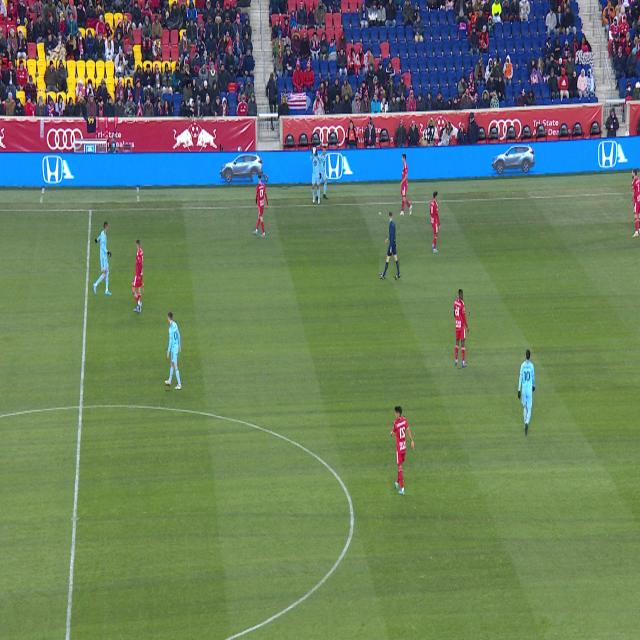player: (391, 406, 414, 495), (518, 349, 535, 436), (93, 222, 112, 295), (165, 313, 182, 390), (380, 213, 400, 278), (454, 290, 469, 369), (454, 290, 469, 368), (254, 175, 269, 237), (398, 154, 412, 216), (254, 176, 268, 237), (133, 239, 143, 313), (430, 191, 441, 253), (631, 169, 640, 238)
referee: (380, 213, 401, 279)
